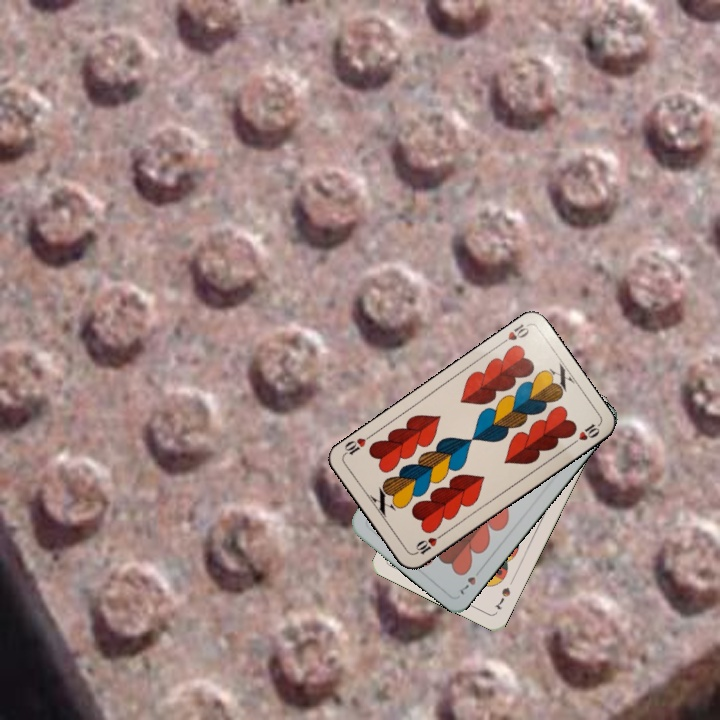H10: (495, 320, 532, 348), (411, 529, 447, 557)
H7: (456, 564, 484, 598)
S7: (490, 583, 513, 612)
